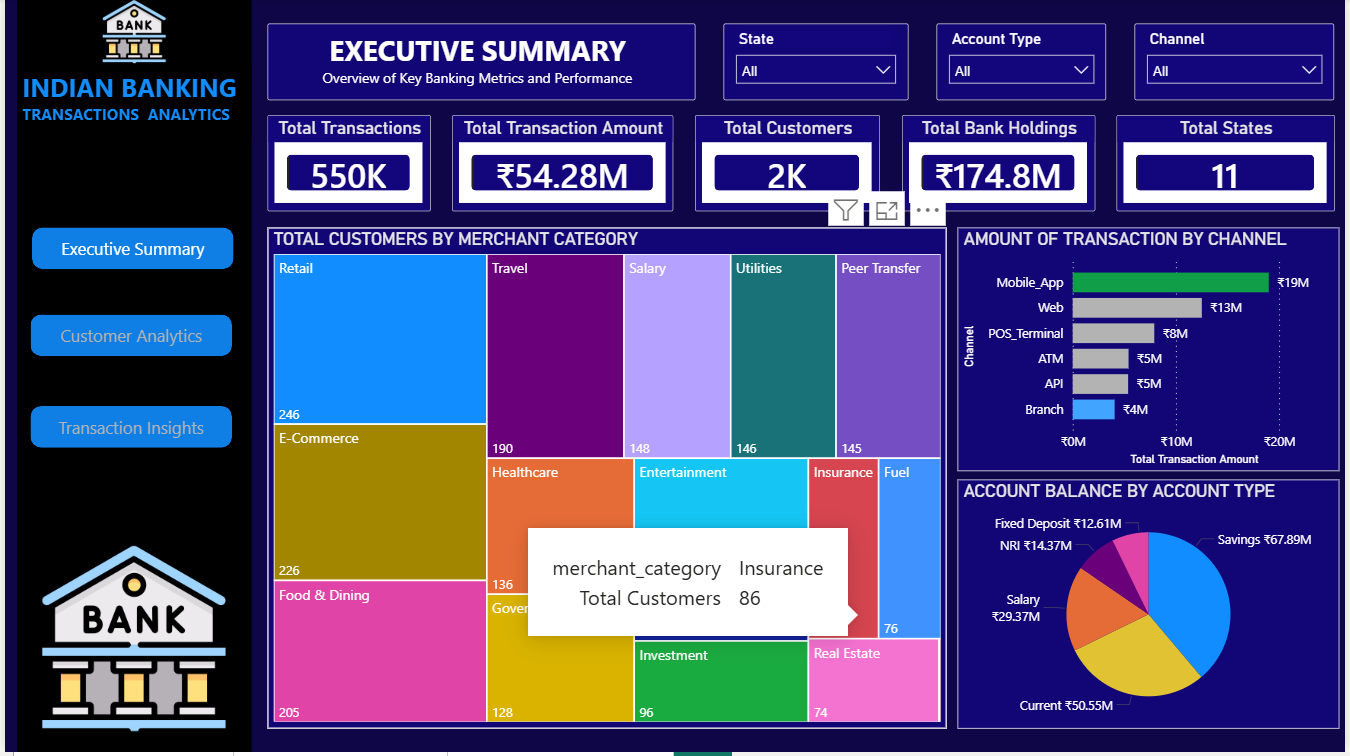

This screenshot's page, from the dashboard's own definition file:
{"tool":"powerbi","page":{"name":"Executive Summary","canvas":[1280,720],"ordinal":0},"visuals":[{"type":"shape","box":[11.1,0,224.3,720.5],"z":0},{"type":"textbox","box":[11.1,63.6,224.3,73.2],"z":1000},{"type":"textbox","box":[251.3,23.9,408.8,73.2],"z":2000},{"type":"cardVisual","title":"Total Transactions","fields":{"Data":["All measures.Total transactions"]},"box":[251.3,111.3,155.9,92.3],"z":3000},{"type":"cardVisual","title":"Total Transaction Amount","fields":{"Data":["All measures.Total Transaction Amount"]},"box":[427.5,111.3,211.6,92.3],"z":4000},{"type":"cardVisual","title":"Total Customers","fields":{"Data":["All measures.Total Customers"]},"box":[659.3,111.3,176.6,92.3],"z":5000},{"type":"cardVisual","title":"Total Bank Holdings","fields":{"Data":["All measures.Total bank holdings"]},"box":[856.1,111.3,184.5,92.3],"z":6000},{"type":"cardVisual","title":"Total States","fields":{"Data":["All measures.Total States"]},"box":[1060.9,111.3,208.4,92.3],"z":7000},{"type":"slicer","fields":{"Values":["indian_banking_transactions.state"]},"box":[686.6,23.9,176.6,73.2],"z":8000},{"type":"slicer","fields":{"Values":["indian_banking_transactions.account_type"]},"box":[889.7,23.9,162.2,73.2],"z":9000},{"type":"slicer","fields":{"Values":["indian_banking_transactions.channel"]},"box":[1078.4,23.9,190.9,73.2],"z":10000},{"type":"image","box":[30.2,499.5,186.1,221.1],"z":11000},{"type":"image","box":[77.9,0,92.3,63.6],"z":12000},{"type":"actionButton","box":[25.4,219.5,192.5,39.8],"z":13000},{"type":"actionButton","box":[23.9,302.2,192.5,39.8],"z":14000},{"type":"actionButton","box":[23.9,389.7,192.5,39.8],"z":15000},{"type":"treemap","title":"TOTAL CUSTOMERS BY MERCHANT CATEGORY","fields":{"Group":["indian_banking_transactions.merchant_category"],"Values":["All measures.Total Customers"]},"box":[250.7,219.2,648.9,478.4],"z":16000},{"type":"pieChart","title":"ACCOUNT BALANCE BY ACCOUNT TYPE","fields":{"Category":["indian_banking_transactions.account_type"],"Y":["Sum(indian_banking_transactions.account_balance)"]},"box":[909,459.2,364.7,238.1],"z":17000},{"type":"clusteredBarChart","title":"AMOUNT OF TRANSACTION BY CHANNEL","fields":{"Category":["indian_banking_transactions.channel"],"Y":["All measures.Total Transaction Amount"]},"box":[909,219.2,364.7,232.4],"z":18000}]}

Visuals, with their boxes in screenshot pixels (x1, y1, x2, y2), scaled from the page's 1280x720 canvas onto the 1350x756 screenshot:
shape: <bbox>12, 0, 248, 755</bbox>
textbox: <bbox>12, 67, 248, 144</bbox>
textbox: <bbox>265, 25, 696, 102</bbox>
"Total Transactions" cardVisual: <bbox>265, 117, 429, 214</bbox>
"Total Transaction Amount" cardVisual: <bbox>451, 117, 674, 214</bbox>
"Total Customers" cardVisual: <bbox>695, 117, 882, 214</bbox>
"Total Bank Holdings" cardVisual: <bbox>903, 117, 1098, 214</bbox>
"Total States" cardVisual: <bbox>1119, 117, 1339, 214</bbox>
slicer - indian_banking_transactions.state: <bbox>724, 25, 910, 102</bbox>
slicer - indian_banking_transactions.account_type: <bbox>938, 25, 1109, 102</bbox>
slicer - indian_banking_transactions.channel: <bbox>1137, 25, 1339, 102</bbox>
image: <bbox>32, 524, 228, 755</bbox>
image: <bbox>82, 0, 180, 67</bbox>
actionButton: <bbox>27, 230, 230, 272</bbox>
actionButton: <bbox>25, 317, 228, 359</bbox>
actionButton: <bbox>25, 409, 228, 451</bbox>
"TOTAL CUSTOMERS BY MERCHANT CATEGORY" treemap: <bbox>264, 230, 949, 732</bbox>
"ACCOUNT BALANCE BY ACCOUNT TYPE" pieChart: <bbox>959, 482, 1343, 732</bbox>
"AMOUNT OF TRANSACTION BY CHANNEL" clusteredBarChart: <bbox>959, 230, 1343, 474</bbox>
